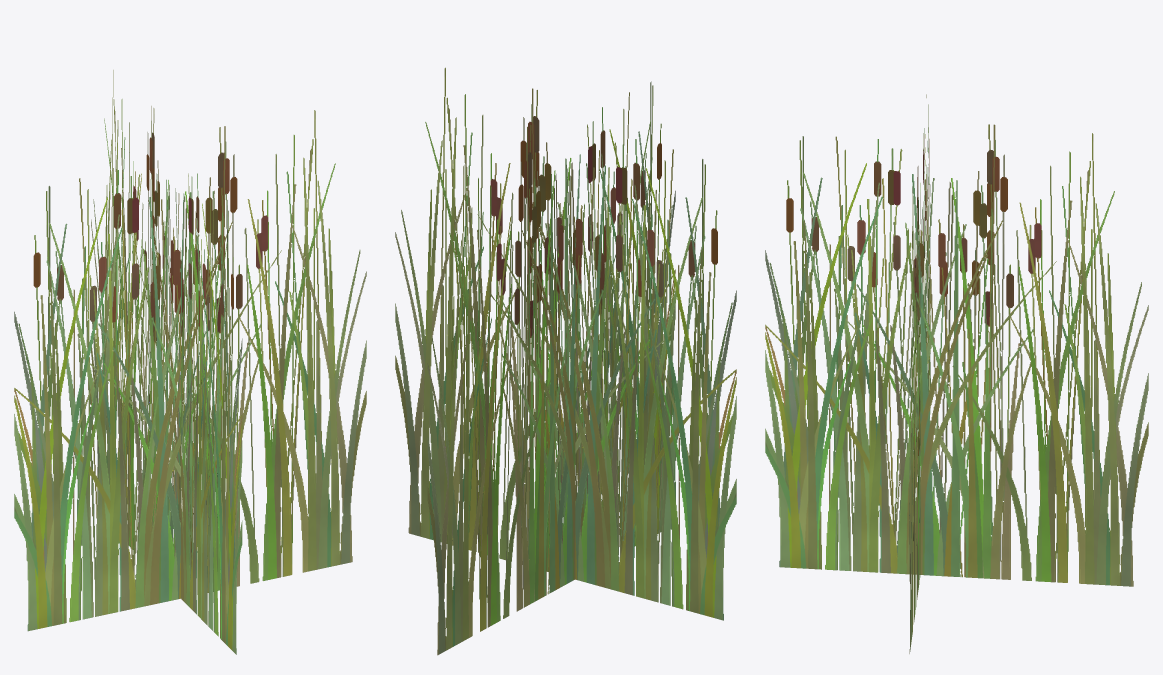
File: Reed_1_LOD2.gltf
3 views of the same model, side by side, from view 1: azimuth 30°, elevation 25°; view 2: azimuth 150°, elevation 25°; view 3: azimuth 270°, elevation 25° (orthographic). The views are drawn at different scales.
Parts seen in each view (by area): view 1: Reed_1_LOD2; view 2: Reed_1_LOD2; view 3: Reed_1_LOD2.
Boxes of the visible parts, box(x1,y1,x2,y2) form: Reed_1_LOD2: box(14, 70, 366, 654); Reed_1_LOD2: box(395, 67, 736, 655); Reed_1_LOD2: box(765, 94, 1148, 653).
Bounding box in the file's own units: 1.4 × 1.93 × 1.39.
1 material, 1 textured.
